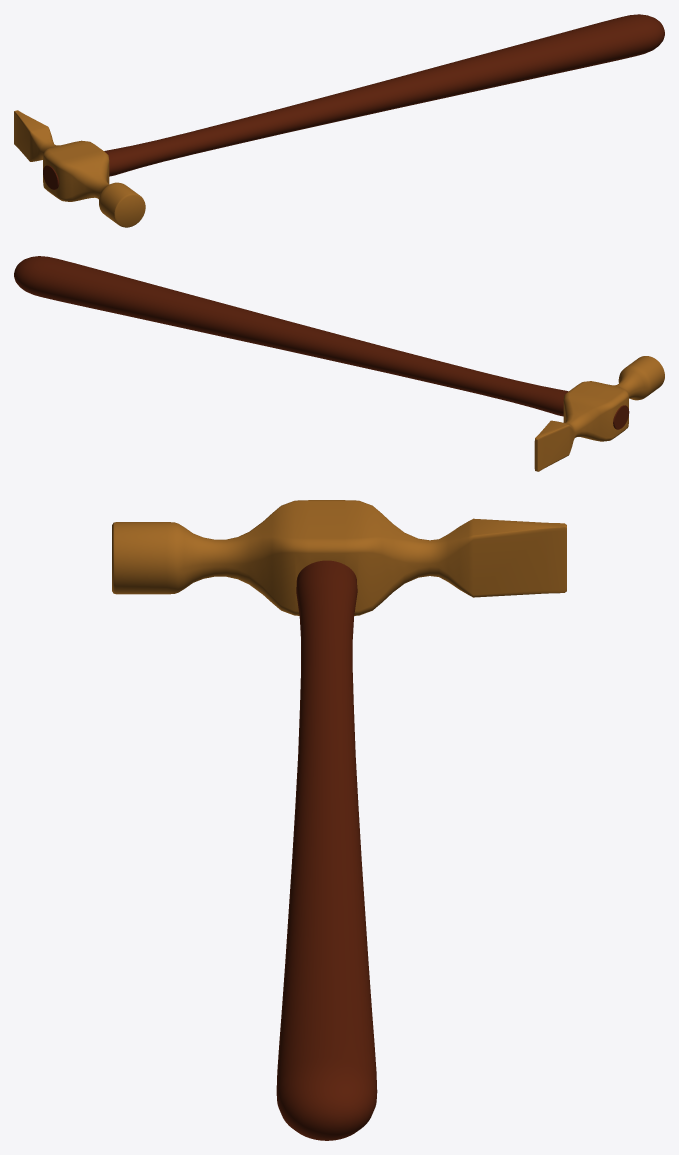
The picture shows the model from 3 angles, top to bottom: view 1: azimuth 30°, elevation 25°; view 2: azimuth 150°, elevation 25°; view 3: azimuth 270°, elevation 25°; orthographic projection. The views are drawn at different scales.
Visible parts, largest first — view 1: part_000_Handle, part_001_Head; view 2: part_000_Handle, part_001_Head; view 3: part_000_Handle, part_001_Head.
Boxes of the visible parts, bbox=[...] form: part_000_Handle: bbox=[43, 14, 664, 189]; part_001_Head: bbox=[14, 110, 145, 227]; part_000_Handle: bbox=[14, 256, 629, 429]; part_001_Head: bbox=[534, 356, 664, 471]; part_000_Handle: bbox=[276, 560, 377, 1140]; part_001_Head: bbox=[112, 500, 566, 615].
Bounding box in the file's own units: 0.287 × 0.0173 × 0.0935.
